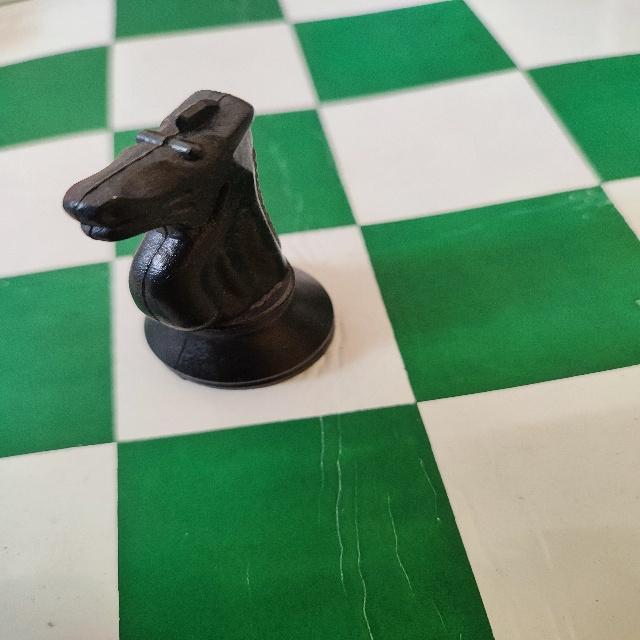Knight: (61, 86, 336, 394)
